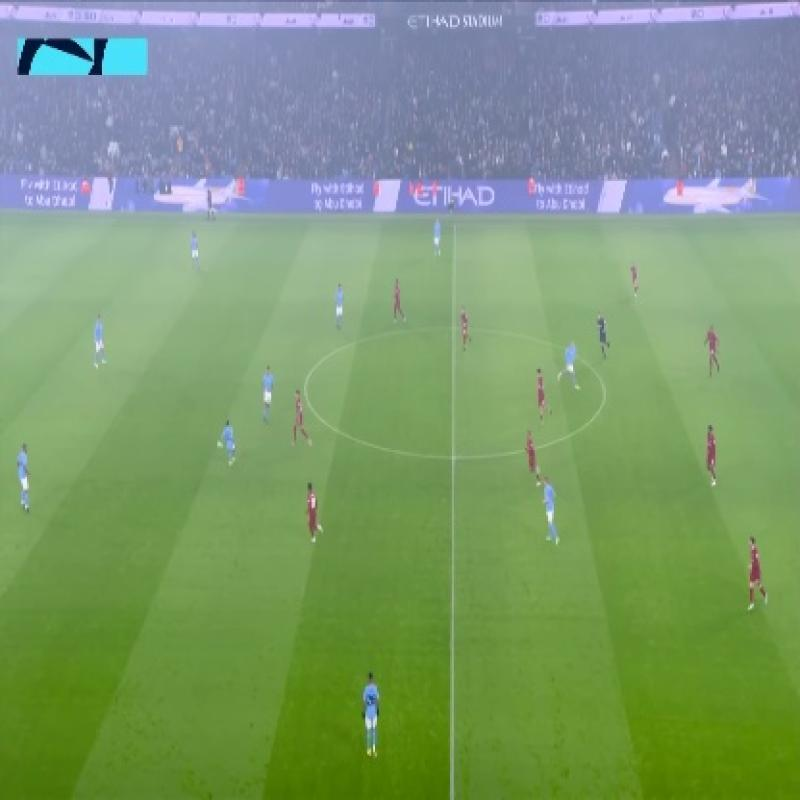13: (448, 213, 466, 237)
14: (442, 314, 464, 340)
15: (438, 438, 465, 473)
c: (586, 380, 620, 420), (288, 368, 324, 400)
